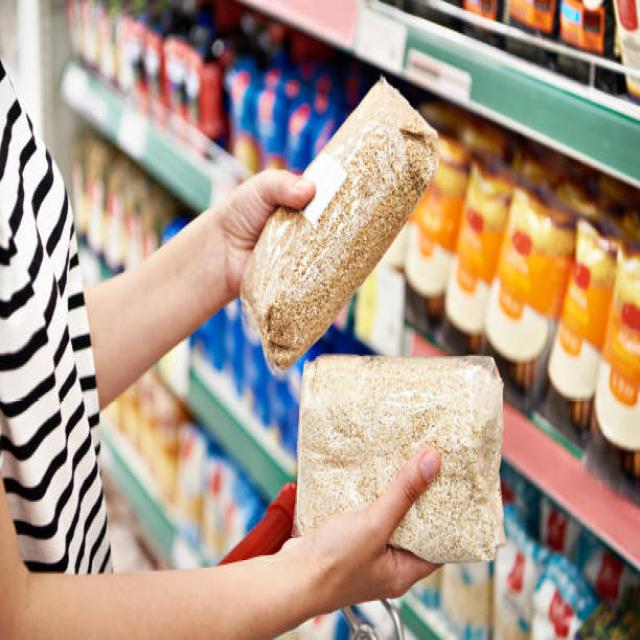article: (242, 78, 435, 369), (295, 355, 504, 560)
hands: (0, 449, 438, 638), (86, 173, 313, 406)
